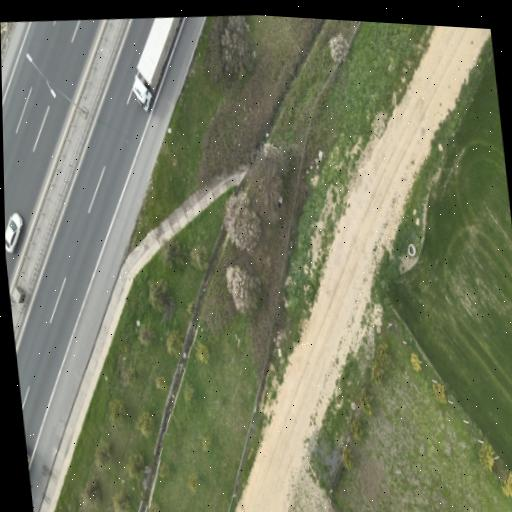car: (5, 213, 22, 252)
truck: (133, 17, 180, 110), (27, 453, 30, 467)
